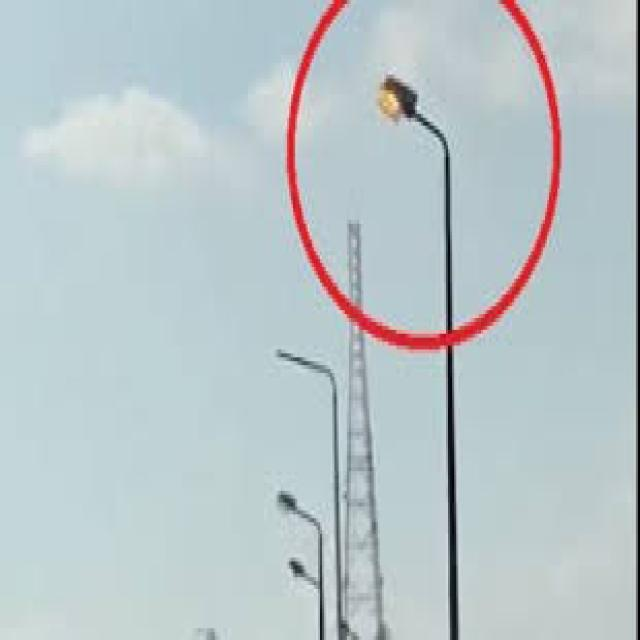Street Light: (375, 70, 460, 640), (273, 483, 324, 640), (285, 553, 322, 640)
